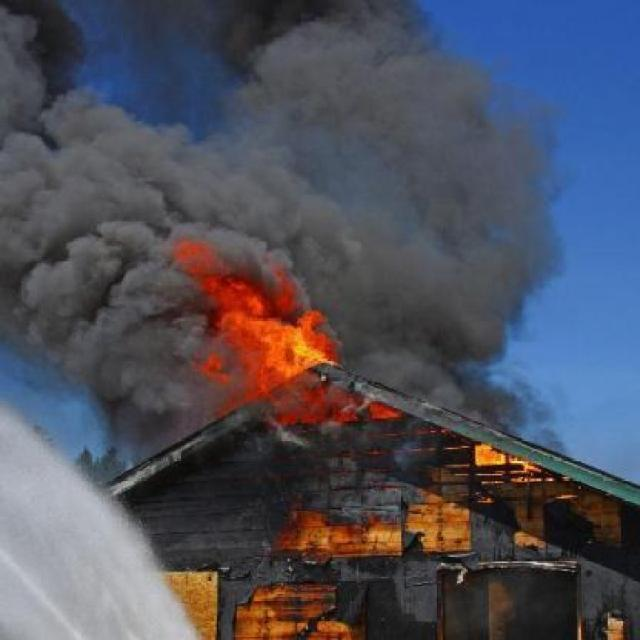Fire: (152, 263, 409, 462)
Smoke: (10, 46, 552, 371)
